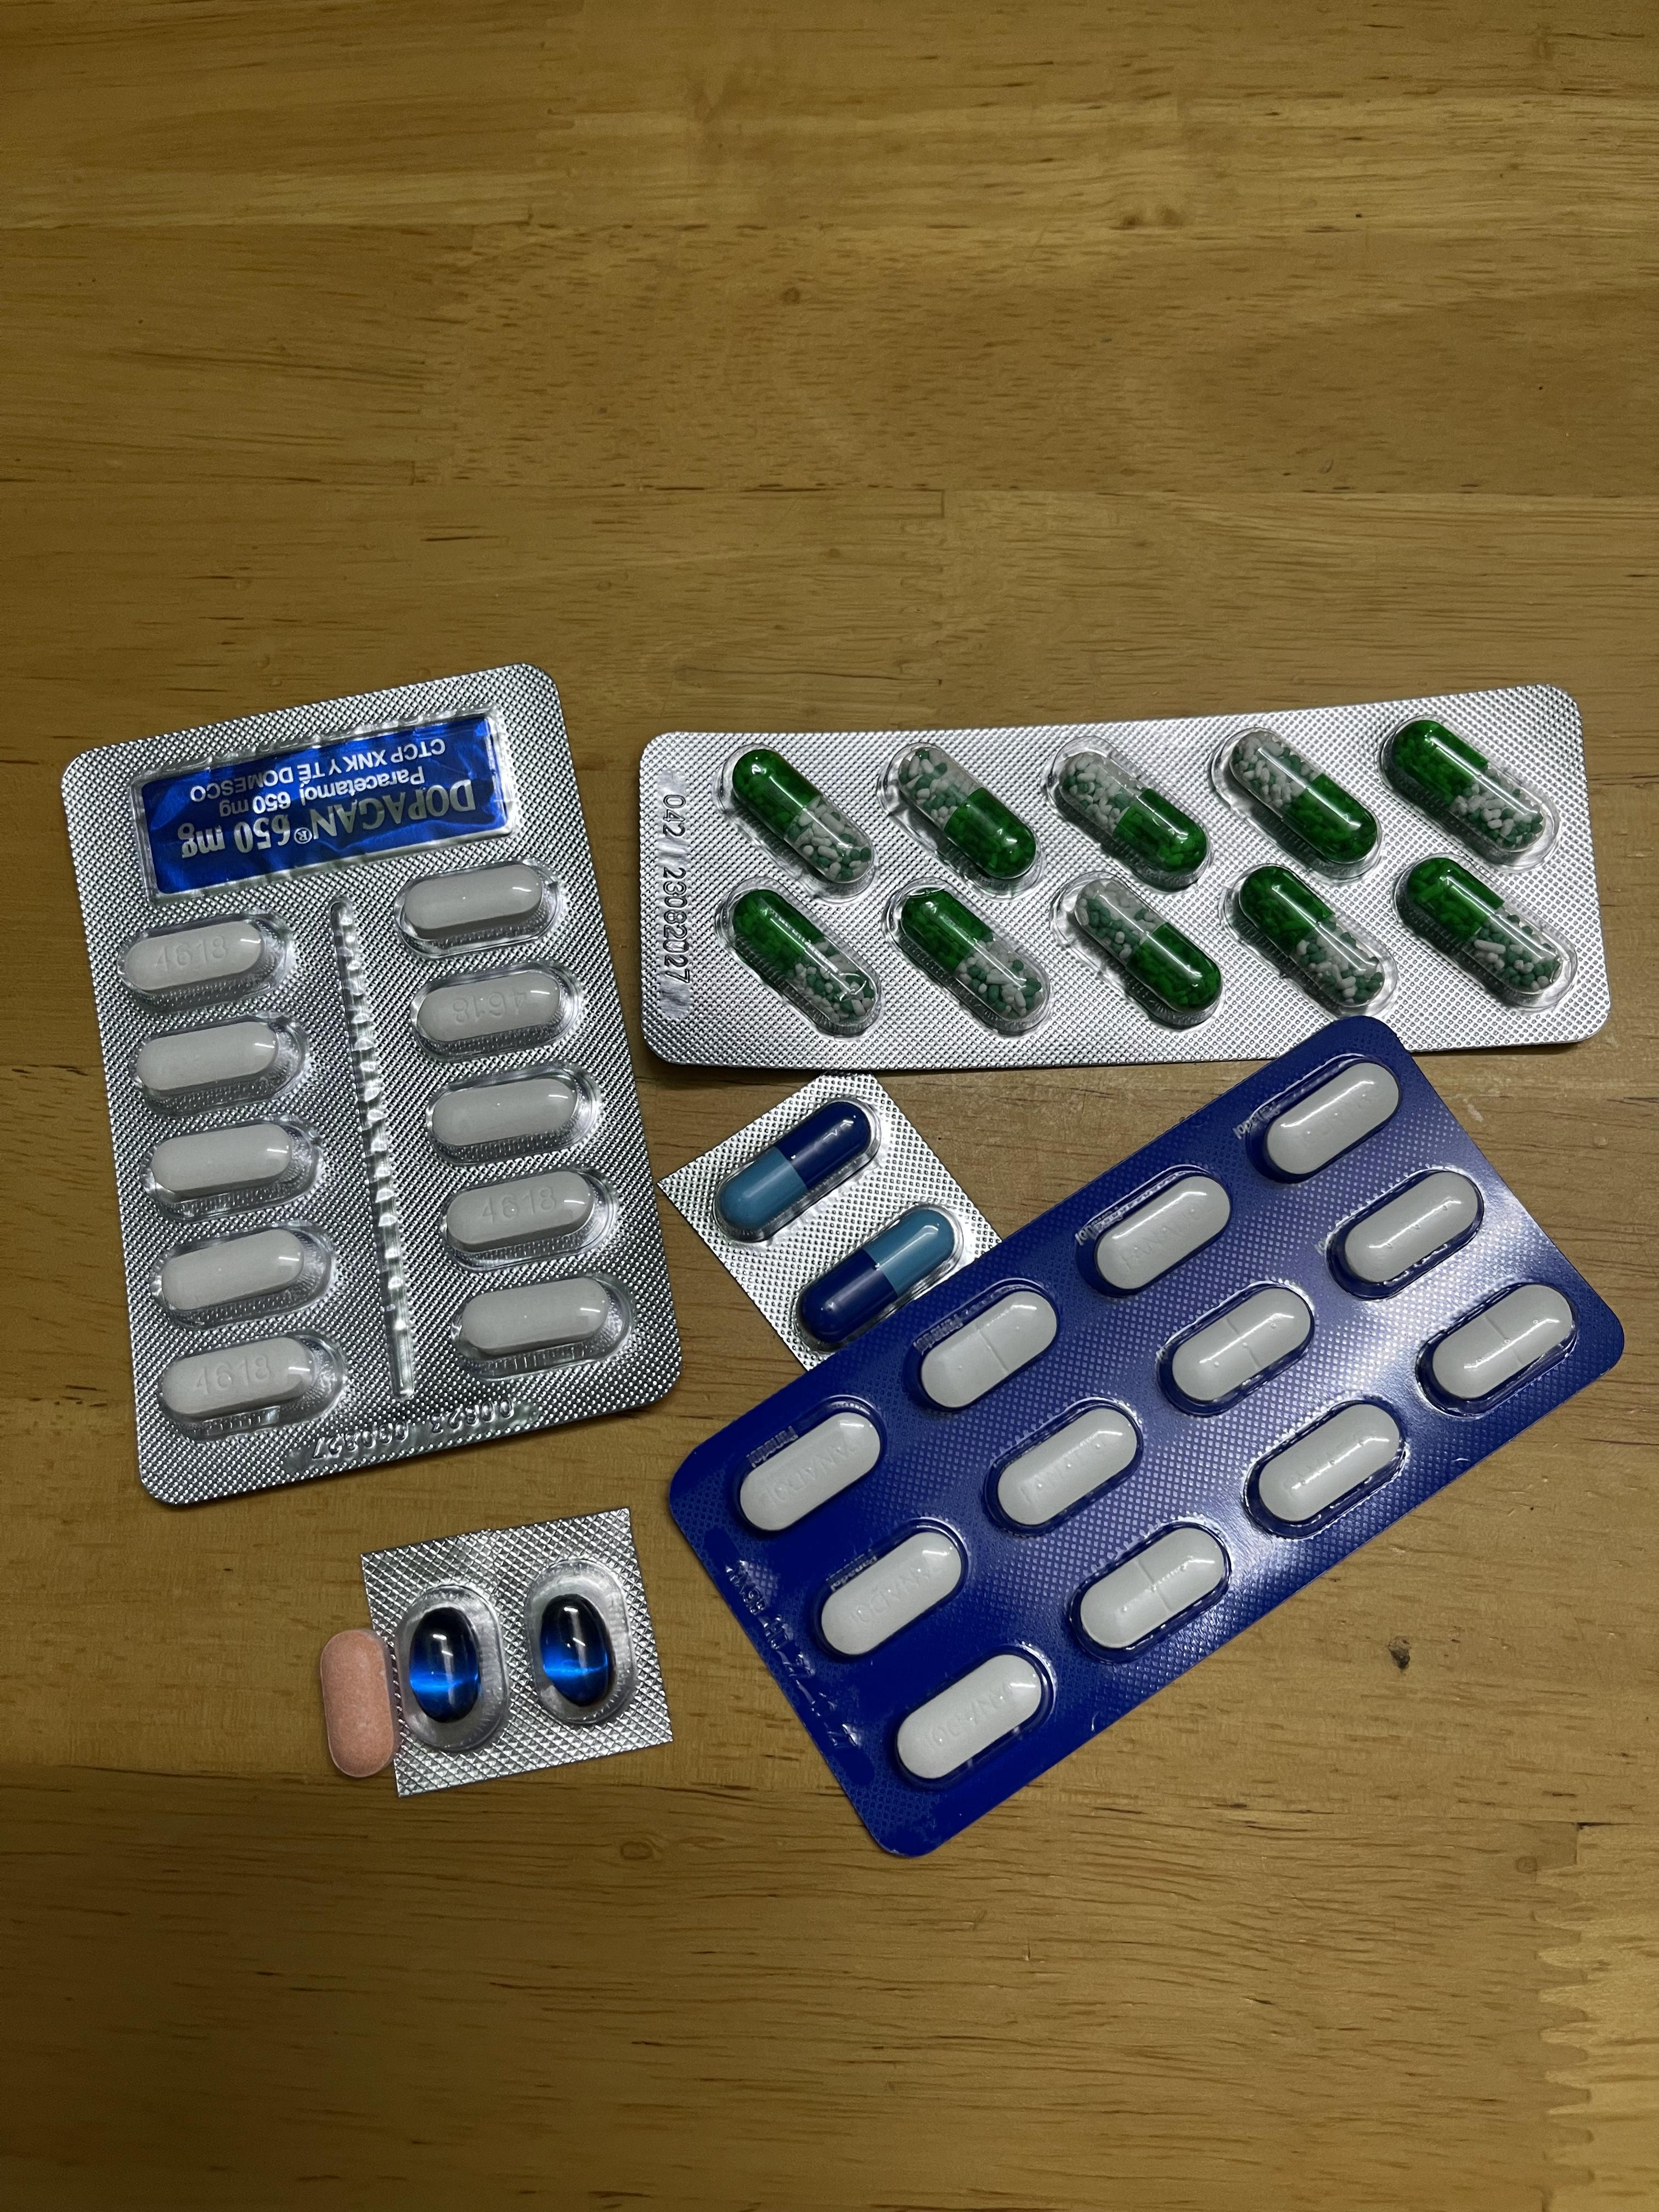Lincomyxin_500mg: (410, 1609, 481, 1719), (538, 1595, 613, 1700)
Loratadine_10mg: (317, 1629, 396, 1777)
Paracetamol_350mg: (892, 1648, 1051, 1789), (1072, 1519, 1230, 1658), (1246, 1395, 1406, 1533), (1157, 1275, 1314, 1413), (988, 1397, 1141, 1534), (1328, 1162, 1483, 1298), (816, 1522, 965, 1662), (1420, 1278, 1577, 1411), (915, 1284, 1060, 1411), (1084, 1169, 1230, 1292), (737, 1407, 880, 1533), (1253, 1057, 1398, 1179)
Paracetamol_500mg: (157, 1334, 343, 1428), (152, 1223, 333, 1318), (406, 961, 582, 1055), (115, 911, 295, 1001), (422, 1064, 596, 1157), (139, 1118, 319, 1207), (451, 1273, 627, 1364), (437, 1165, 605, 1259), (129, 1015, 305, 1104), (392, 857, 559, 946)
Paracetamol_650mg: (727, 887, 880, 1035), (885, 744, 1040, 890), (1403, 860, 1567, 998), (1389, 721, 1551, 859), (727, 747, 877, 894), (894, 885, 1044, 1026), (1237, 867, 1389, 1007), (1225, 732, 1378, 869), (1066, 880, 1220, 1015), (1053, 747, 1208, 881)
pill: (803, 1207, 957, 1348), (718, 1101, 873, 1237)
